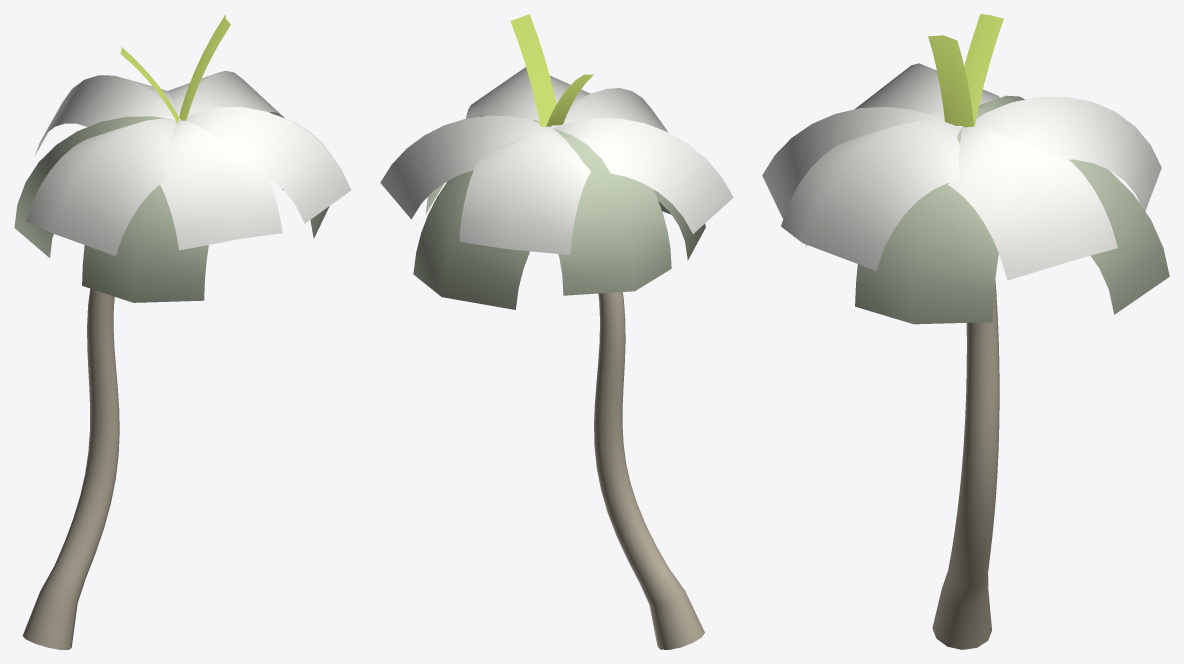
Rendered from plant_palm_2.glb.
3 renders of one model, left to right at view 1: azimuth 30°, elevation 25°; view 2: azimuth 150°, elevation 25°; view 3: azimuth 270°, elevation 25°, orthographic. The views are drawn at different scales.
Parts seen in each view (by area): view 1: plant_palm_2; view 2: plant_palm_2; view 3: plant_palm_2.
Boxes of the visible parts, left/top/right/bottom form: plant_palm_2: left=14, top=14, right=351, bottom=649; plant_palm_2: left=380, top=14, right=733, bottom=649; plant_palm_2: left=762, top=14, right=1169, bottom=649.
Bounding box in the file's own units: 5.55 × 10.86 × 5.73.
